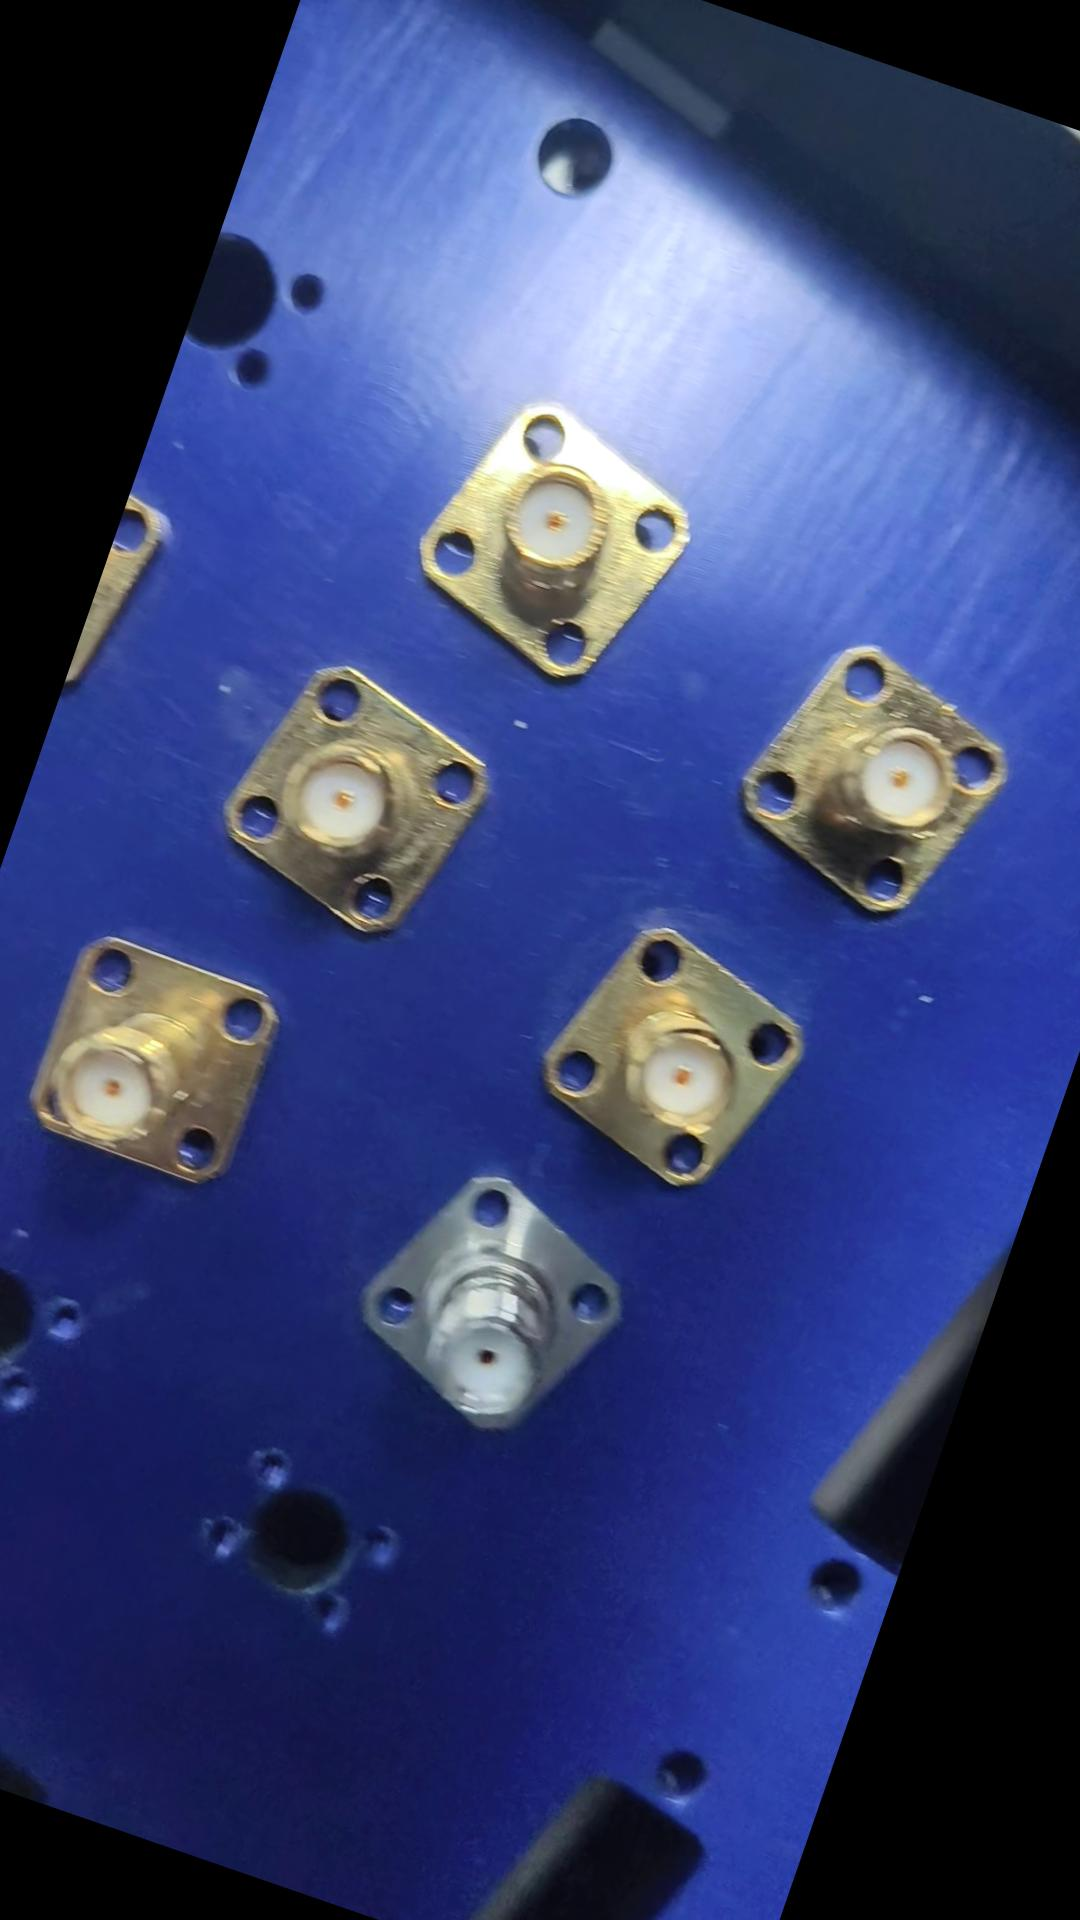SMA: (204, 431, 506, 732), (605, 495, 899, 787), (509, 1145, 799, 1433), (158, 765, 440, 1052), (555, 847, 836, 1125), (115, 1102, 369, 1357)
